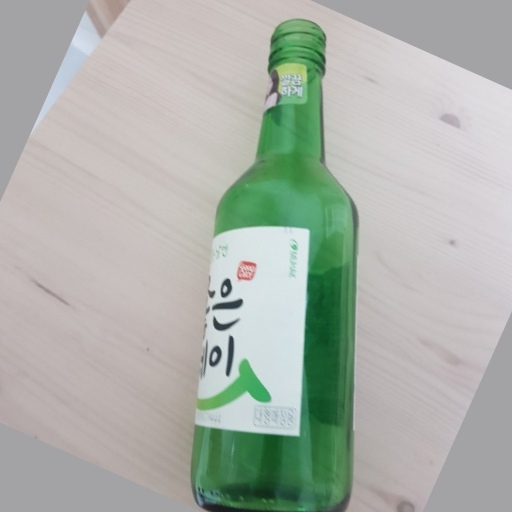Glass_0: (176, 18, 365, 512)
